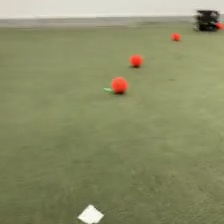ball: (111, 76, 128, 94), (130, 54, 143, 68), (172, 32, 181, 41), (216, 20, 224, 29)
robot: (195, 6, 220, 33)
